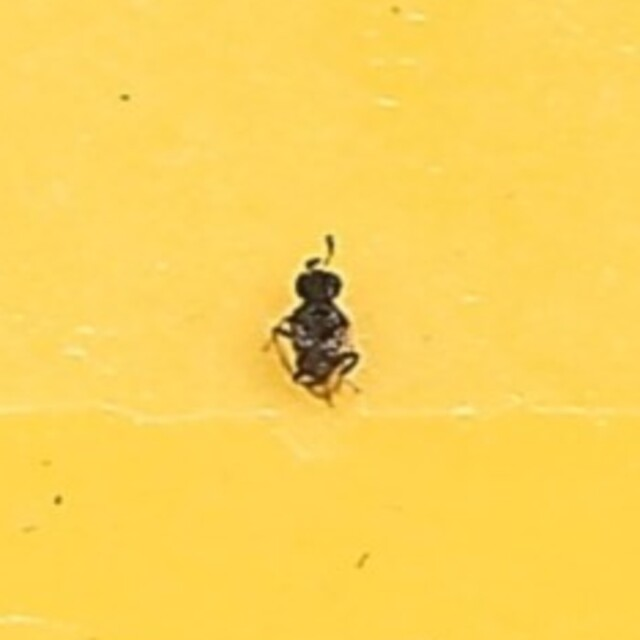Hymenoptera: (274, 230, 366, 410)
